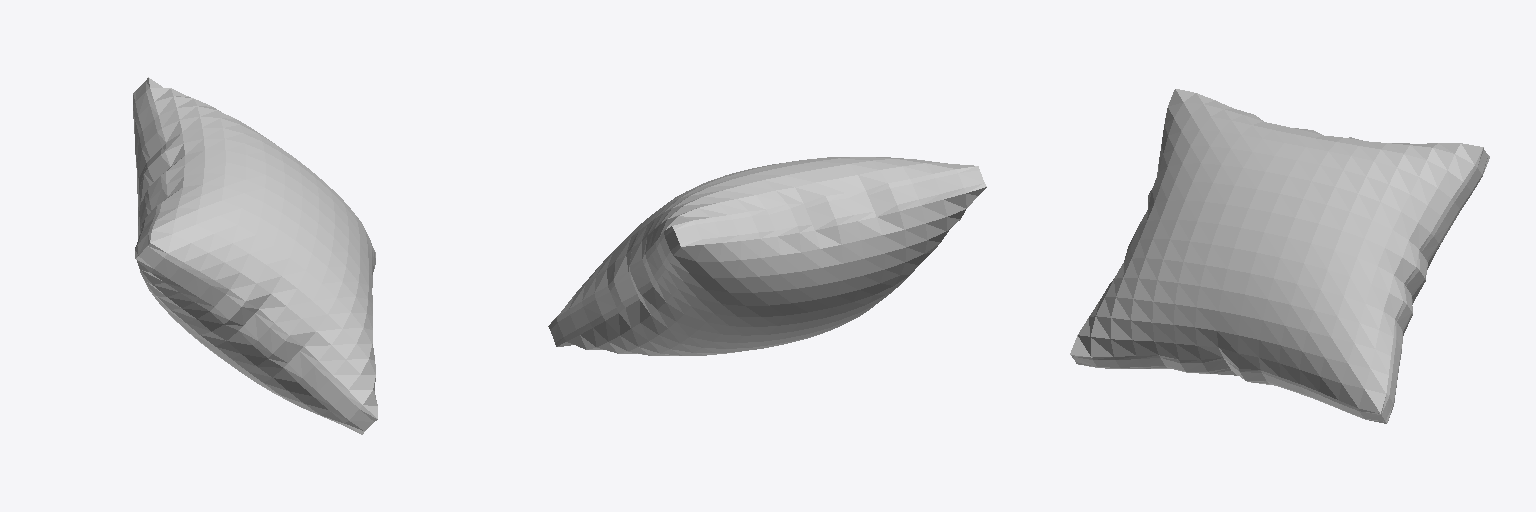
Rendered from PillowC.obj.
The picture shows the model from 3 angles: view 1: azimuth 30°, elevation 25°; view 2: azimuth 150°, elevation 25°; view 3: azimuth 270°, elevation 25°; orthographic projection.
Visible parts, largest first — view 1: pillow bed_pillows bed_stuff bed witch_tower; view 2: pillow bed_pillows bed_stuff bed witch_tower; view 3: pillow bed_pillows bed_stuff bed witch_tower.
Boxes of the visible parts, box(x1,y1,x2,y2) form: pillow bed_pillows bed_stuff bed witch_tower: box(133, 77, 377, 434); pillow bed_pillows bed_stuff bed witch_tower: box(548, 157, 986, 355); pillow bed_pillows bed_stuff bed witch_tower: box(1070, 89, 1489, 423).
Bounding box in the file's own units: 2.81 × 1.67 × 3.01.